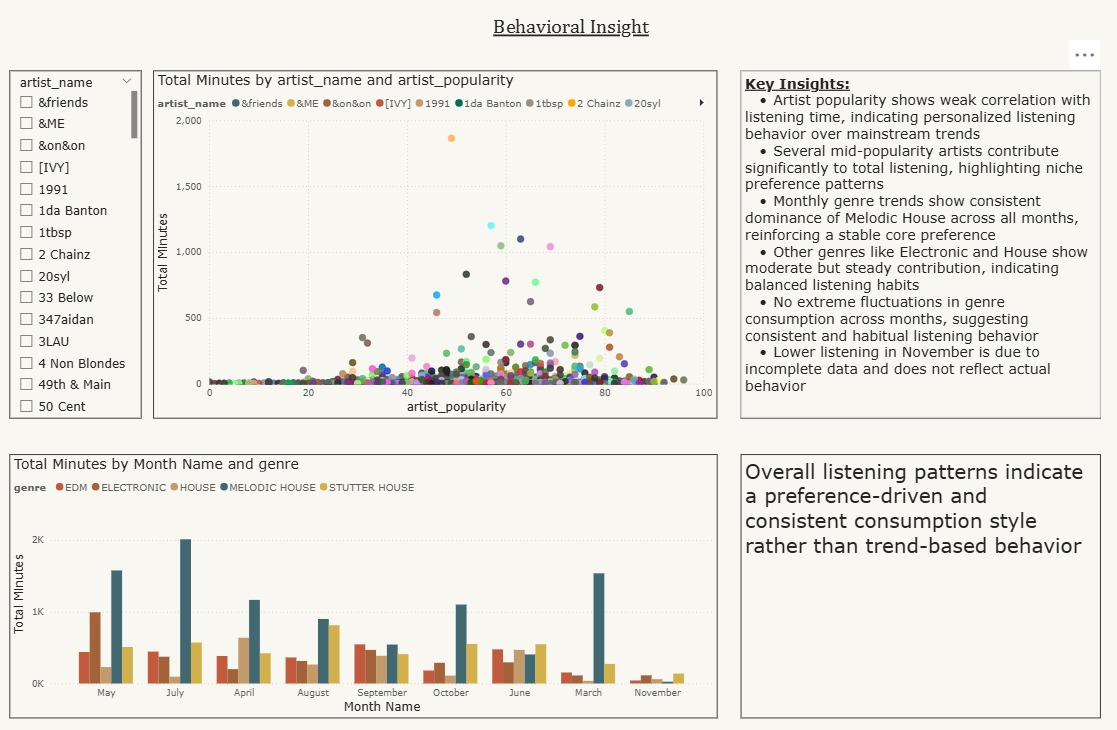

The dashboard page shown, as its layout file describes it:
{"tool":"powerbi","page":{"name":"Behavioral Insight","canvas":[1500,1000],"ordinal":3},"visuals":[{"type":"clusteredColumnChart","fields":{"Category":["fact_listening_events3.Month Name"],"Series":["artist_table.genre "],"Y":["fact_listening_events3.Total Minutes"]},"box":[16,608,944,352],"z":0},{"type":"scatterChart","fields":{"X":["artist_table.artist_popularity"],"Y":["fact_listening_events3.Total Minutes"],"Series":["artist_table.artist_name"]},"box":[208,96,752,464],"z":1000},{"type":"slicer","fields":{"Values":["artist_table.artist_name"]},"box":[16,96,176,464],"z":2000},{"type":"textbox","box":[992,96,480,464],"z":3000},{"type":"textbox","box":[992,608,480,352],"z":4000},{"type":"textbox","box":[656,16,320,48],"z":5000}]}

Visuals, with their boxes in screenshot pixels (x1, y1, x2, y2), scaled from the page's 1500x1000 canvas onto the 1117x730 screenshot:
clusteredColumnChart - fact_listening_events3.Month Name x artist_table.genre : locate(12, 444, 715, 701)
scatterChart - artist_table.artist_popularity x fact_listening_events3.Total Minutes: locate(155, 70, 715, 409)
slicer - artist_table.artist_name: locate(12, 70, 143, 409)
textbox: locate(739, 70, 1096, 409)
textbox: locate(739, 444, 1096, 701)
textbox: locate(489, 12, 727, 47)
